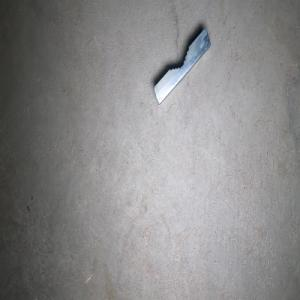ClampPart: (152, 27, 211, 106)
